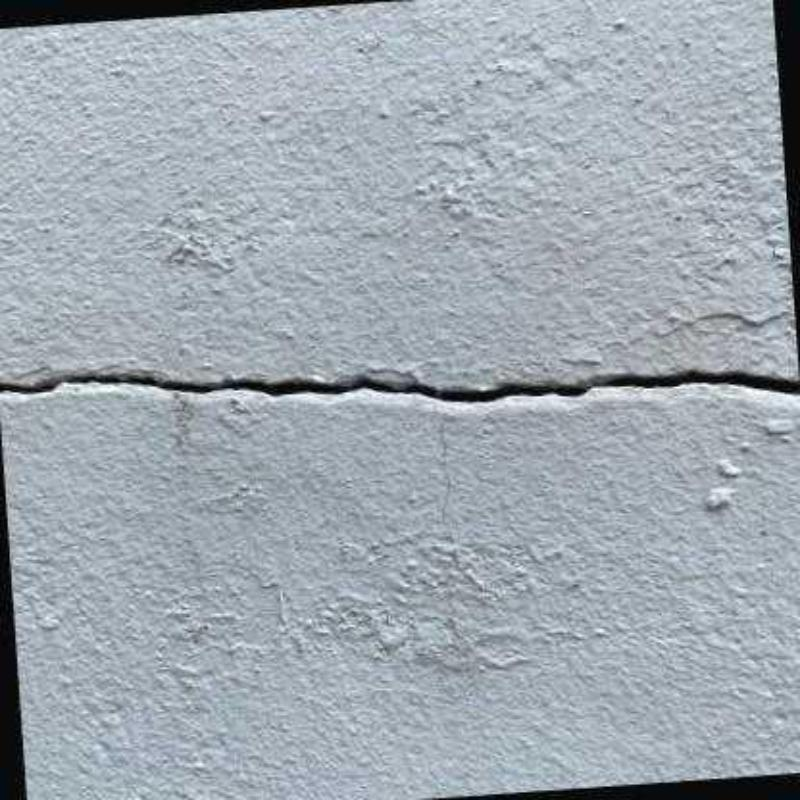pothole: (1, 372, 799, 402)
